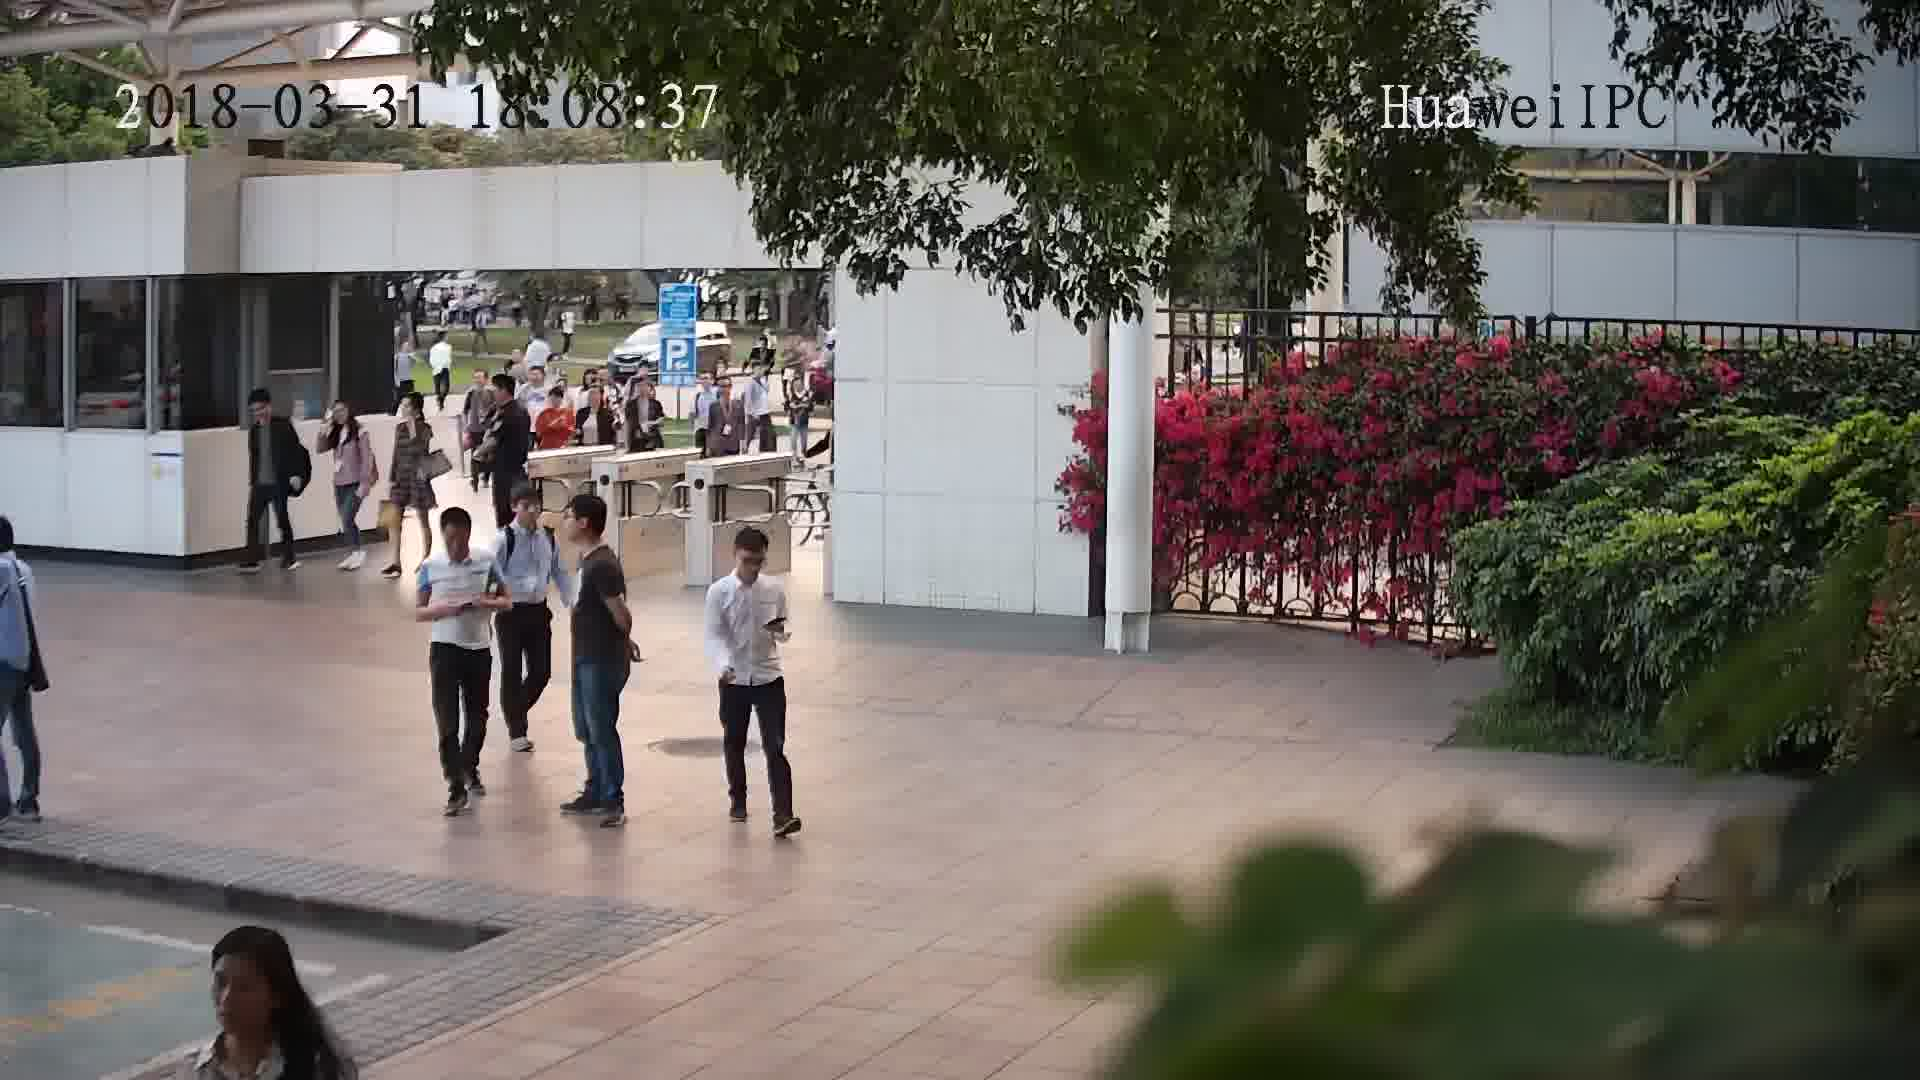face: (195, 946, 284, 1035)
person: (185, 923, 339, 1064), (706, 524, 784, 607), (417, 504, 494, 585), (560, 490, 622, 581), (494, 482, 556, 549), (386, 388, 433, 448), (242, 382, 290, 439), (319, 393, 369, 444), (487, 372, 532, 426), (0, 513, 32, 586), (622, 368, 665, 411), (536, 381, 576, 423), (704, 374, 744, 417), (685, 368, 722, 410), (465, 366, 501, 406), (784, 371, 818, 402)
